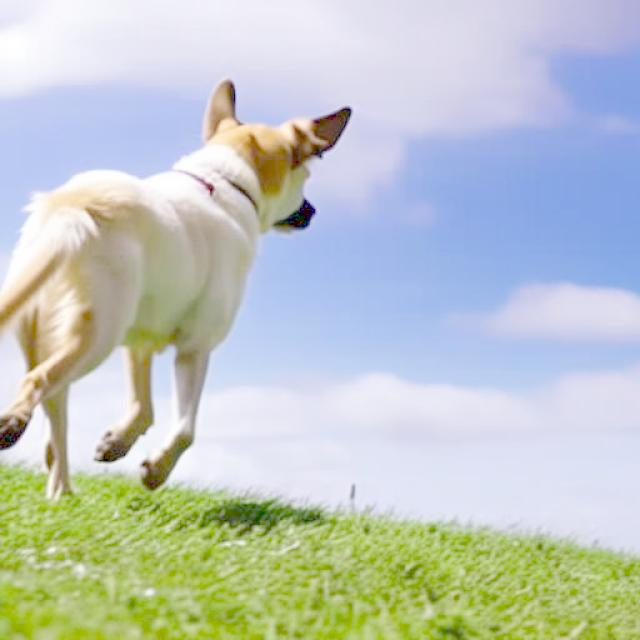Dog: (0, 77, 354, 498)
